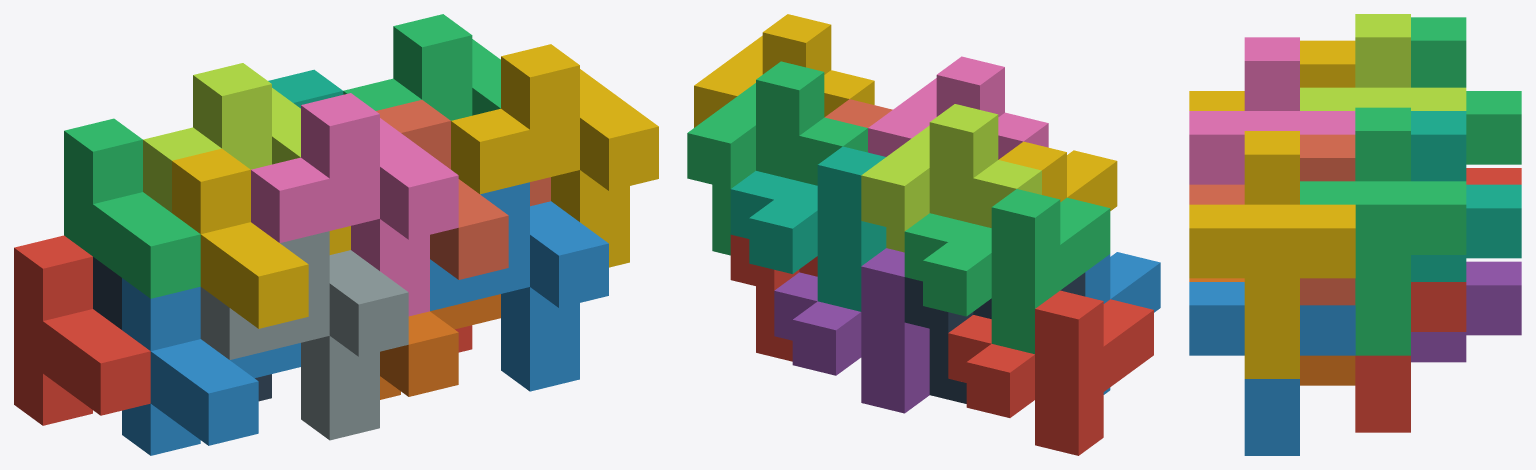
Rendered from tiling.obj.
3 renders of one model, left to right at view 1: azimuth 30°, elevation 25°; view 2: azimuth 150°, elevation 25°; view 3: azimuth 270°, elevation 25°, orthographic. The views are drawn at different scales.
Parts seen in each view (by area): view 1: copy_2_domain_4, copy_2_domain_8, copy_2_domain_2, copy_1_domain_1, copy_2_domain_6, copy_1_domain_2, copy_1_domain_3, copy_1_domain_4, copy_2_domain_3, copy_2_domain_7, copy_1_domain_8, copy_1_domain_6 (+2 smaller); view 2: copy_1_domain_1, copy_1_domain_3, copy_1_domain_7, copy_2_domain_7, copy_1_domain_5, copy_2_domain_3, copy_2_domain_8, copy_2_domain_4, copy_1_domain_4, copy_2_domain_1, copy_2_domain_5, copy_1_domain_2 (+1 smaller); view 3: copy_2_domain_8, copy_2_domain_7, copy_2_domain_6, copy_2_domain_4, copy_1_domain_7, copy_1_domain_3, copy_2_domain_3, copy_2_domain_5, copy_1_domain_5, copy_1_domain_8, copy_1_domain_4, copy_1_domain_6 (+1 smaller).
Part boxes in pixels (x1=…): copy_2_domain_4: x1=251, y1=93, x2=458, y2=316; copy_2_domain_8: x1=451, y1=44, x2=658, y2=267; copy_2_domain_2: x1=200, y1=231, x2=408, y2=440; copy_1_domain_1: x1=14, y1=235, x2=150, y2=425; copy_2_domain_6: x1=430, y1=182, x2=608, y2=391; copy_1_domain_2: x1=122, y1=278, x2=300, y2=455; copy_1_domain_3: x1=64, y1=118, x2=200, y2=298; copy_1_domain_4: x1=172, y1=148, x2=350, y2=328; copy_2_domain_3: x1=143, y1=63, x2=300, y2=212; copy_2_domain_7: x1=343, y1=14, x2=500, y2=120; copy_1_domain_8: x1=376, y1=100, x2=550, y2=279; copy_1_domain_6: x1=380, y1=294, x2=500, y2=399; copy_1_domain_1: x1=948, y1=290, x2=1153, y2=455; copy_1_domain_3: x1=904, y1=189, x2=1110, y2=354; copy_1_domain_7: x1=730, y1=146, x2=886, y2=311; copy_2_domain_7: x1=687, y1=61, x2=867, y2=255; copy_1_domain_5: x1=774, y1=248, x2=929, y2=413; copy_2_domain_3: x1=861, y1=104, x2=1041, y2=252; copy_2_domain_8: x1=694, y1=14, x2=874, y2=127; copy_2_domain_4: x1=868, y1=56, x2=1048, y2=159; copy_1_domain_4: x1=999, y1=141, x2=1117, y2=210; copy_2_domain_1: x1=904, y1=272, x2=1085, y2=403; copy_2_domain_5: x1=730, y1=234, x2=817, y2=361; copy_1_domain_2: x1=1085, y1=252, x2=1160, y2=394; copy_2_domain_8: x1=1189, y1=131, x2=1355, y2=378; copy_2_domain_7: x1=1300, y1=107, x2=1466, y2=355; copy_2_domain_6: x1=1189, y1=282, x2=1355, y2=455; copy_2_domain_4: x1=1189, y1=37, x2=1355, y2=184; copy_1_domain_7: x1=1411, y1=111, x2=1521, y2=281; copy_1_domain_3: x1=1411, y1=17, x2=1521, y2=164; copy_2_domain_3: x1=1300, y1=14, x2=1466, y2=110; copy_2_domain_5: x1=1355, y1=282, x2=1466, y2=432; copy_1_domain_5: x1=1411, y1=261, x2=1521, y2=362; copy_1_domain_8: x1=1189, y1=134, x2=1355, y2=305; copy_1_domain_4: x1=1189, y1=40, x2=1355, y2=110; copy_1_domain_6: x1=1189, y1=278, x2=1355, y2=385.
Size of the model in its own units: 10 by 6 by 6.
